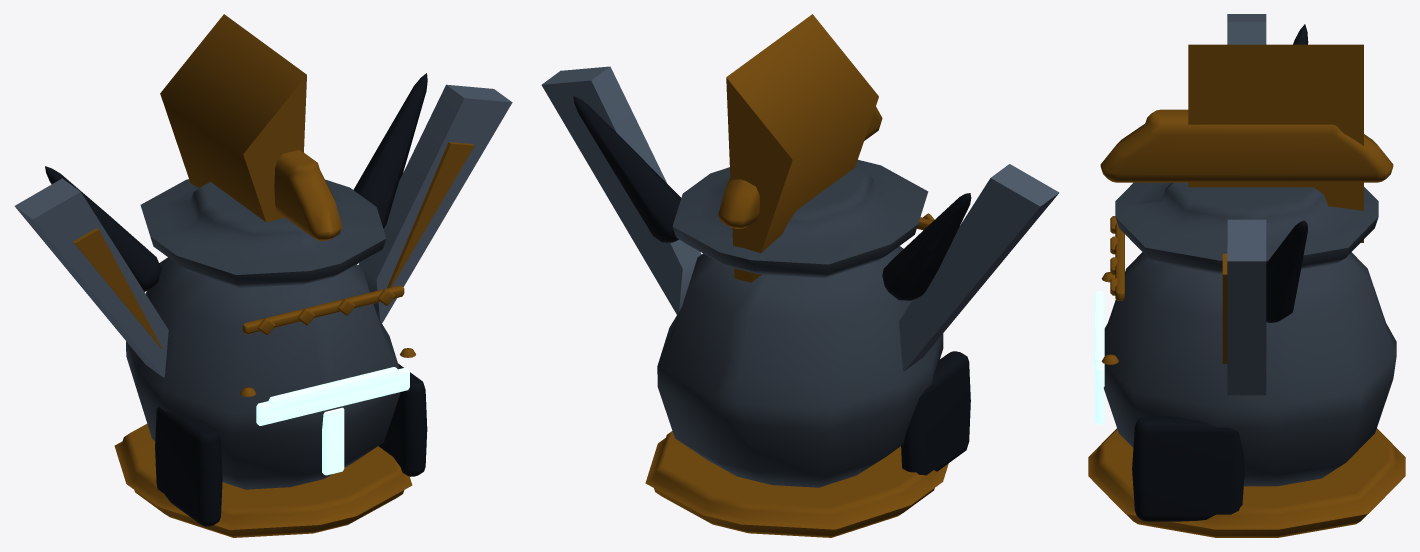
Rendered from Runica_Elmo.fbx.
3 views of the same model, side by side, from view 1: azimuth 30°, elevation 25°; view 2: azimuth 150°, elevation 25°; view 3: azimuth 270°, elevation 25° (orthographic). The views are drawn at different scales.
Visible parts, largest first — view 1: Piece; view 2: Piece; view 3: Piece.
Boxes of the visible parts, x1,y1,x2,y2 form: Piece: [14, 14, 512, 537]; Piece: [541, 14, 1059, 537]; Piece: [1088, 14, 1405, 537].
Bounding box in the file's own units: 0.6541 × 0.5495 × 0.3547.
